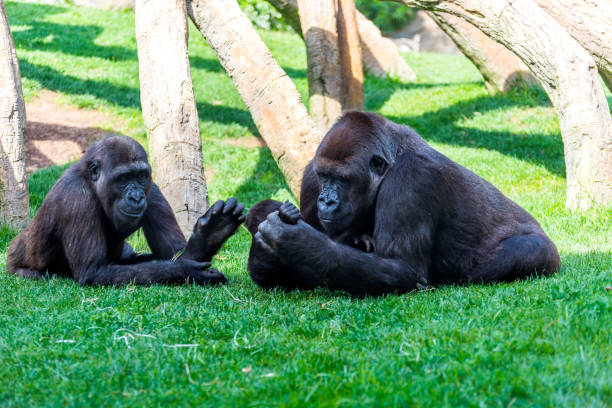chimpanzee: (303, 105, 381, 246), (81, 123, 164, 243)
